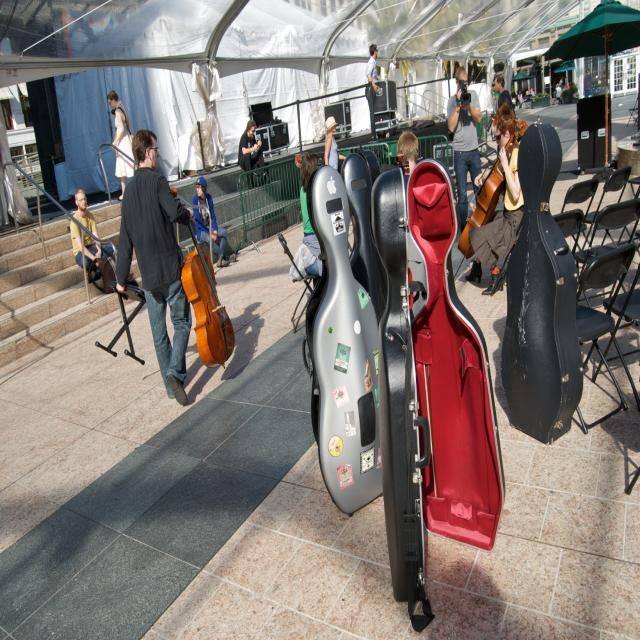cello: (173, 185, 237, 364), (455, 122, 533, 260)
